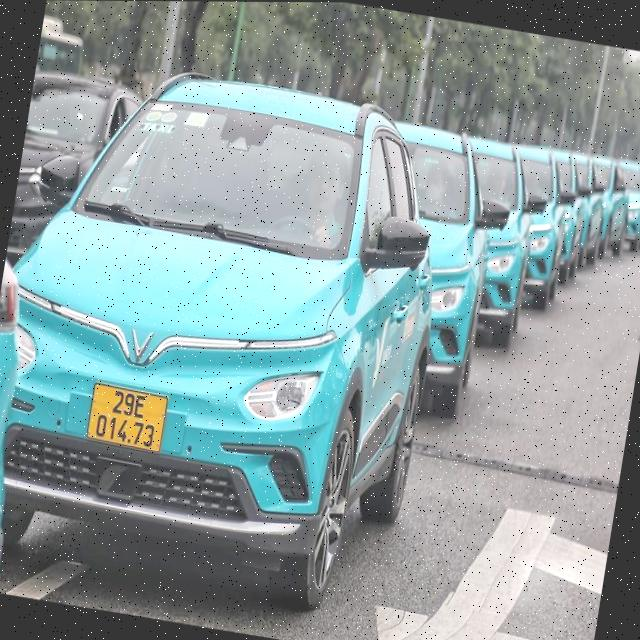car: (0, 53, 469, 632), (9, 60, 144, 254)
plate: (78, 375, 176, 458)
